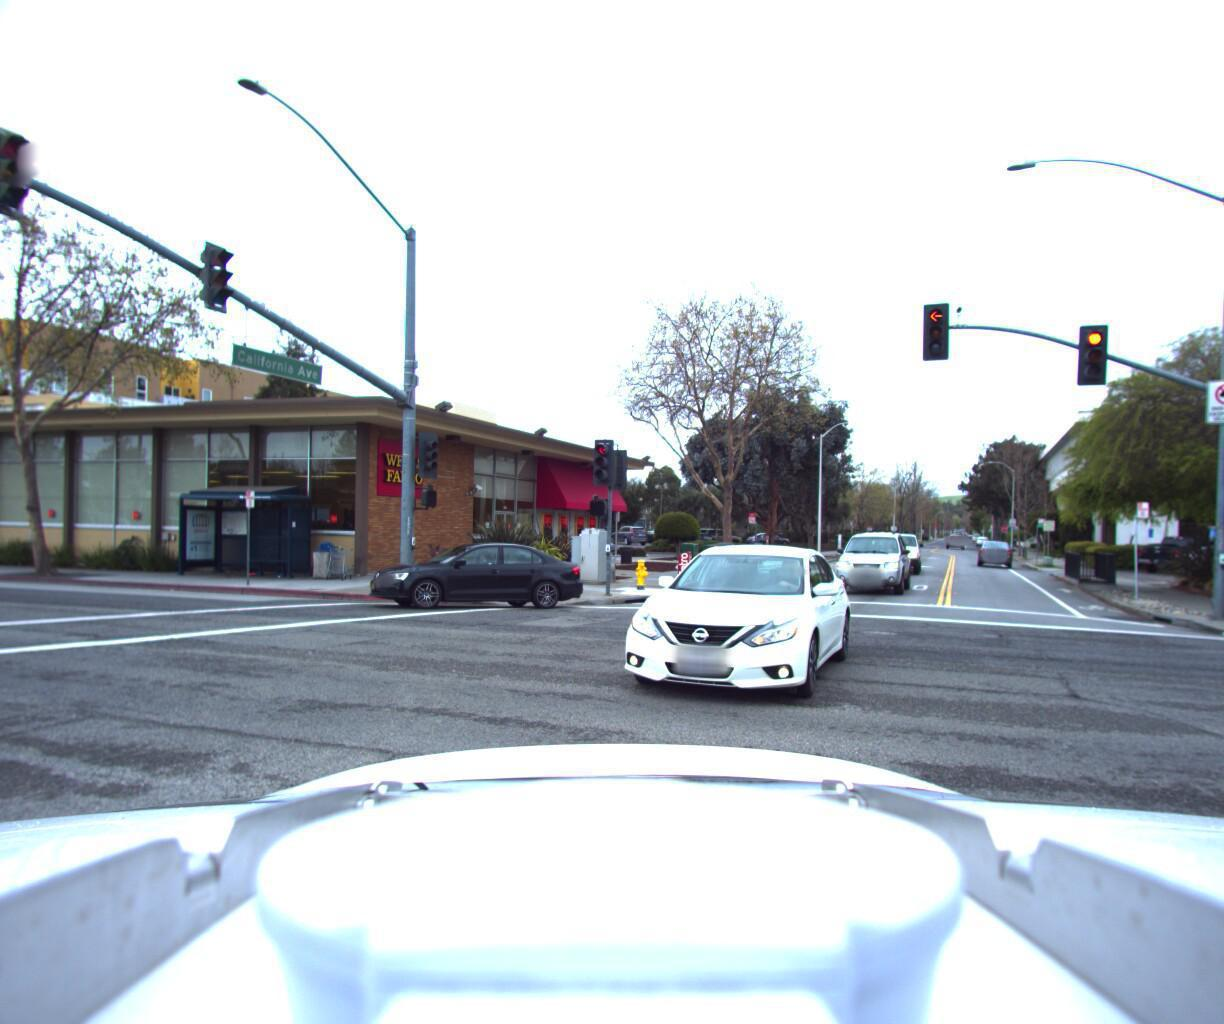car: (575, 545, 852, 732), (351, 534, 584, 620), (823, 535, 908, 606), (862, 542, 924, 585), (975, 548, 1016, 582)
